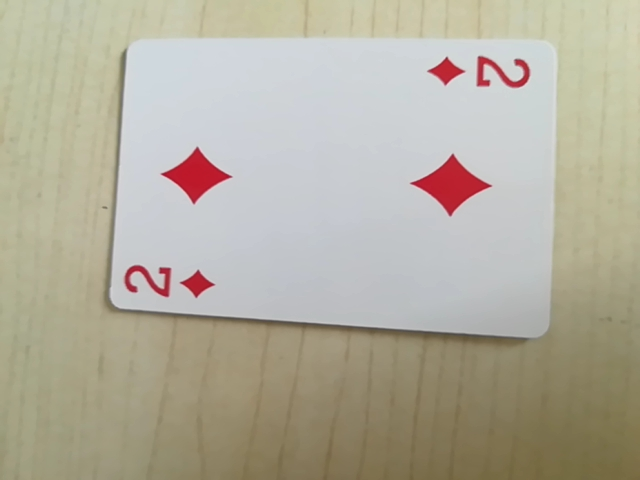fk 2: (425, 50, 538, 98), (120, 255, 220, 307)
